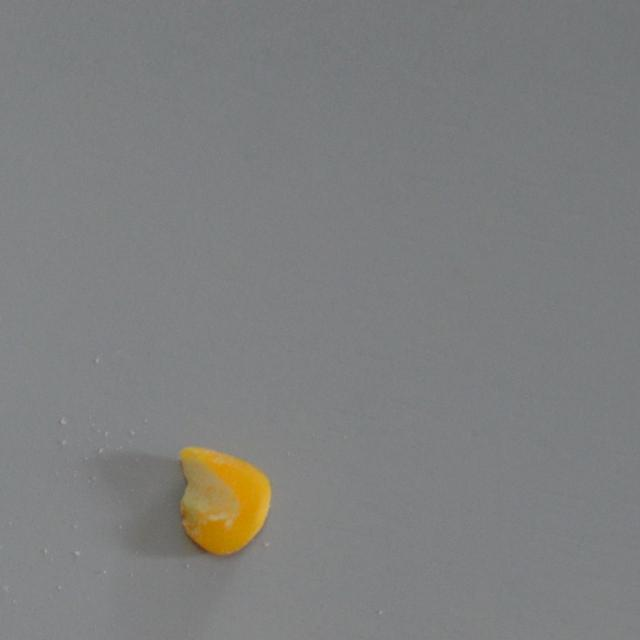pelicula: (177, 446, 270, 558)
